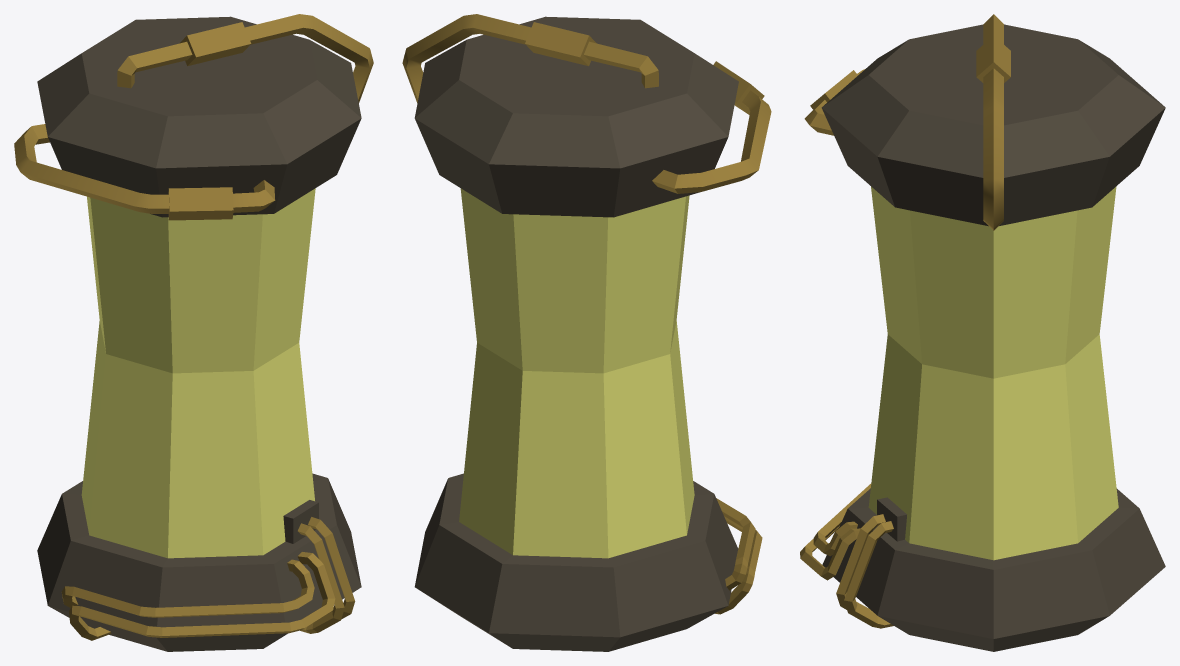
Rendered from Buis.fbx.
3 views of the same model, side by side, from view 1: azimuth 30°, elevation 25°; view 2: azimuth 150°, elevation 25°; view 3: azimuth 270°, elevation 25° (orthographic). The views are drawn at different scales.
Visible parts, largest first — view 1: Tube, Pipe2, Pipe, Plpie4, Pipe3, Pipe5, Pipe6, Block; view 2: Tube, Pipe, Pipe2, Pipe3, Plpie4; view 3: Tube, Pipe, Pipe6, Plpie4, Pipe5, Pipe3, Pipe2, Block.
Boxes of the visible parts, bbox=[...] form: Tube: bbox=[37, 16, 361, 651]; Pipe2: bbox=[14, 124, 275, 220]; Pipe: bbox=[117, 14, 373, 103]; Plpie4: bbox=[69, 552, 335, 640]; Pipe3: bbox=[61, 559, 314, 617]; Pipe5: bbox=[298, 523, 344, 633]; Pipe6: bbox=[308, 517, 355, 619]; Block: bbox=[283, 500, 318, 543]; Tube: bbox=[414, 16, 738, 651]; Pipe: bbox=[402, 14, 658, 102]; Pipe2: bbox=[652, 61, 771, 193]; Pipe3: bbox=[716, 498, 755, 590]; Plpie4: bbox=[715, 516, 762, 614]; Tube: bbox=[821, 24, 1165, 651]; Pipe: bbox=[976, 14, 1010, 230]; Pipe6: bbox=[844, 521, 893, 628]; Plpie4: bbox=[800, 526, 860, 580]; Pipe5: bbox=[836, 514, 885, 614]; Pipe3: bbox=[813, 483, 871, 556]; Pipe2: bbox=[804, 69, 864, 135]; Block: bbox=[877, 497, 906, 541].
Bounding box in the file's own units: 385 × 591 × 351.
